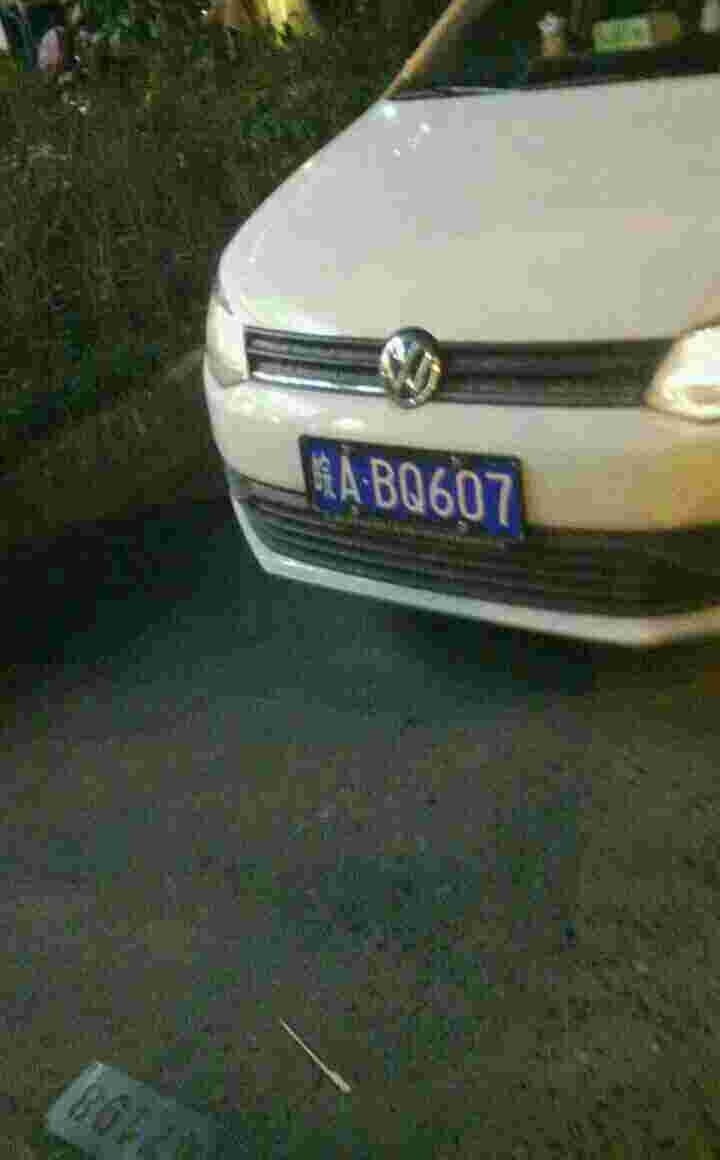plate: (294, 429, 530, 545)
